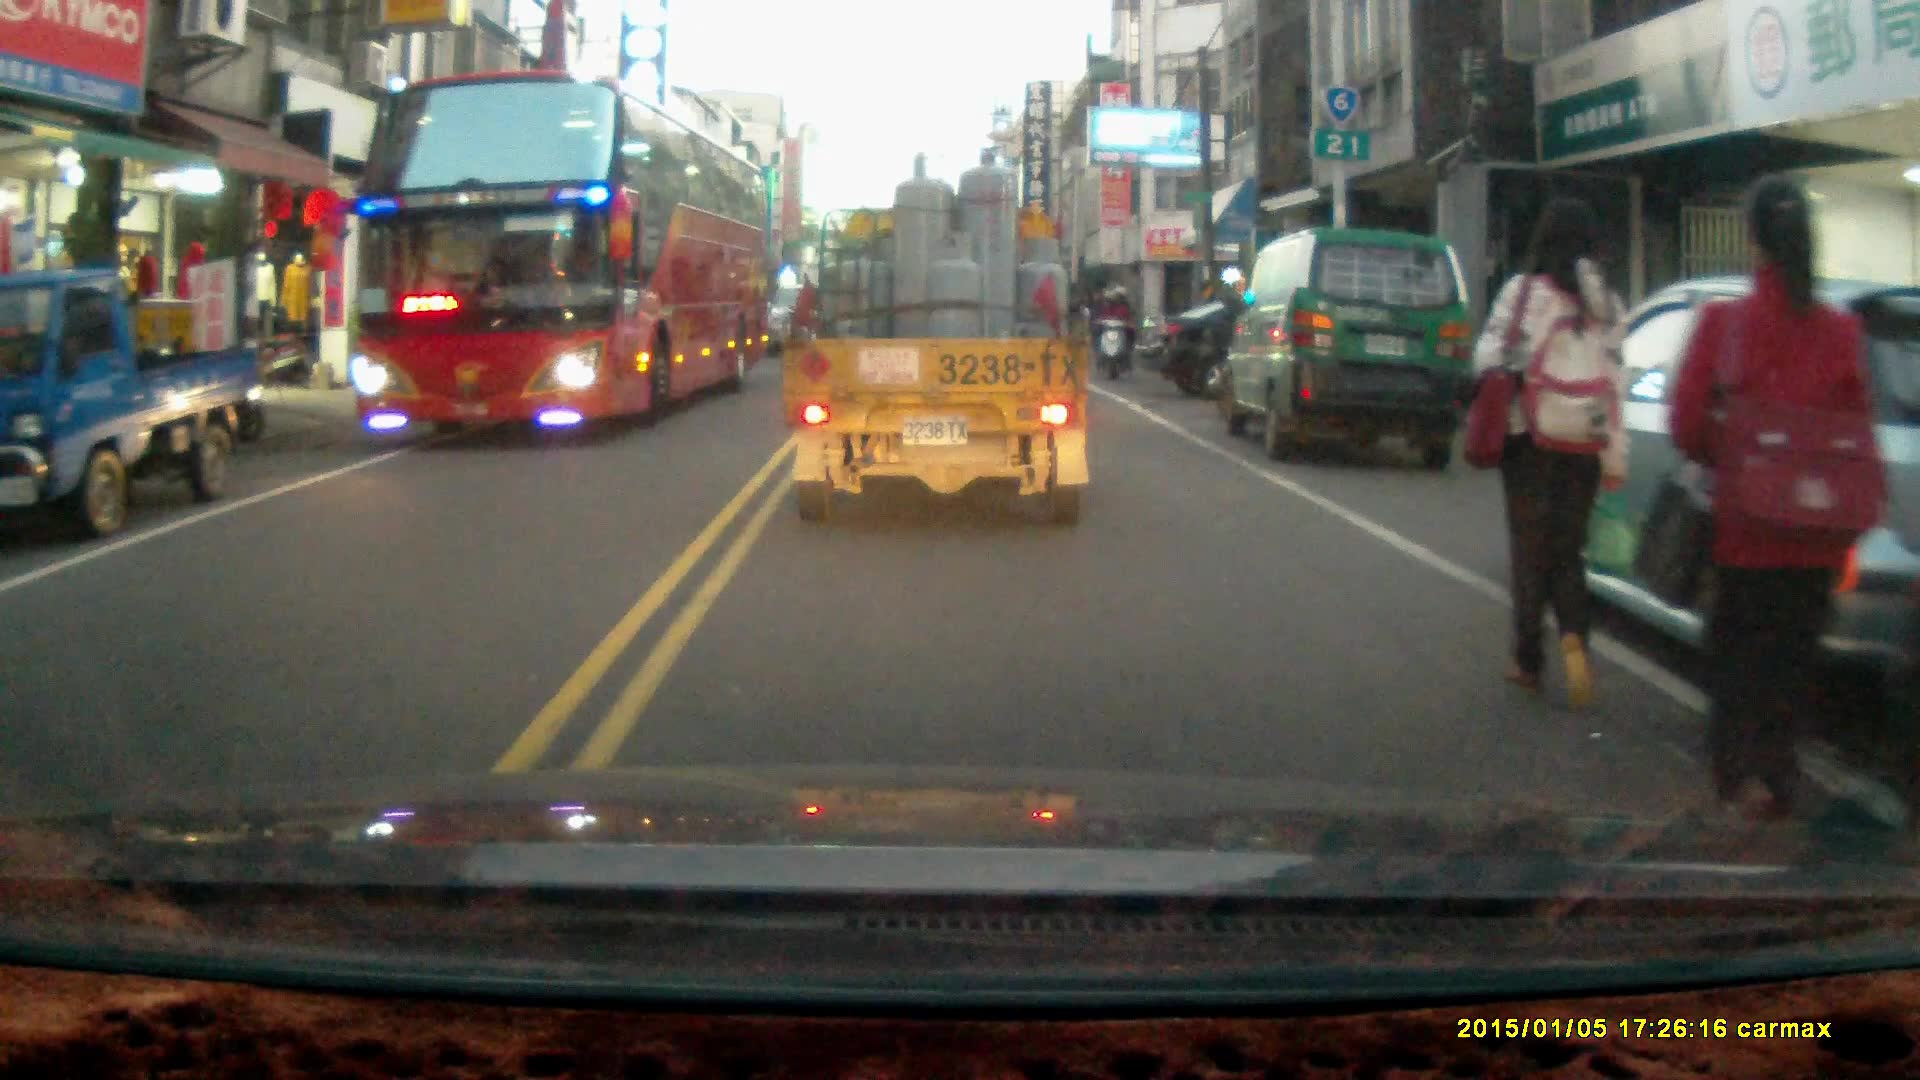pedestrian: (1670, 182, 1888, 892), (1471, 196, 1641, 723)
rider: (1091, 284, 1136, 380)
vehicle: (345, 74, 779, 445), (785, 149, 1096, 534), (1, 266, 269, 542), (1223, 226, 1473, 464), (1133, 303, 1430, 405)
